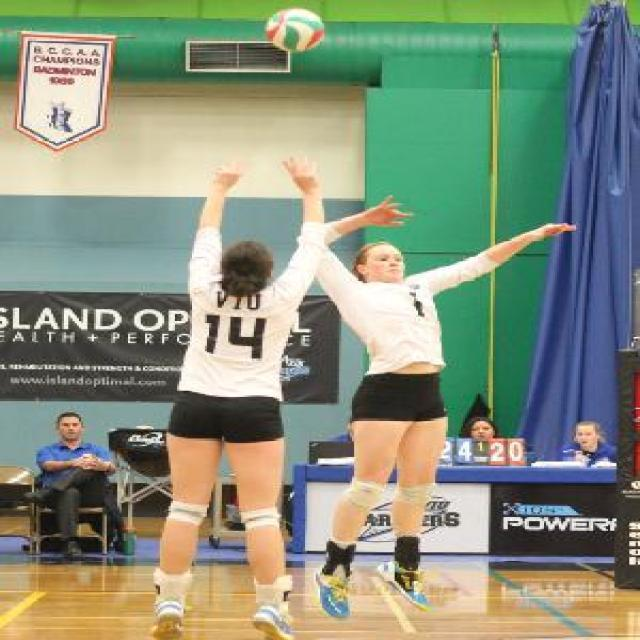volleyball: (265, 7, 326, 52)
